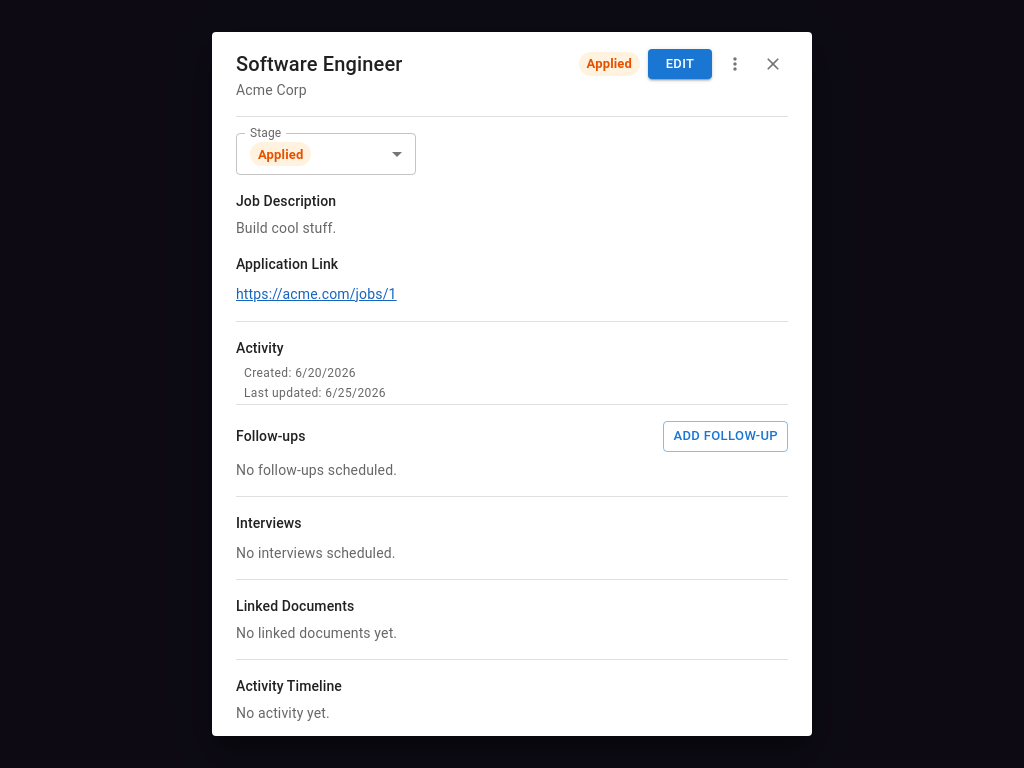
Scenario: JobDetailDialog › shows validation error when follow-up due date is missing
The image size is (1024, 768).
Click the button "Add Follow-up". click: (726, 437)
box: [663,421,788,452]
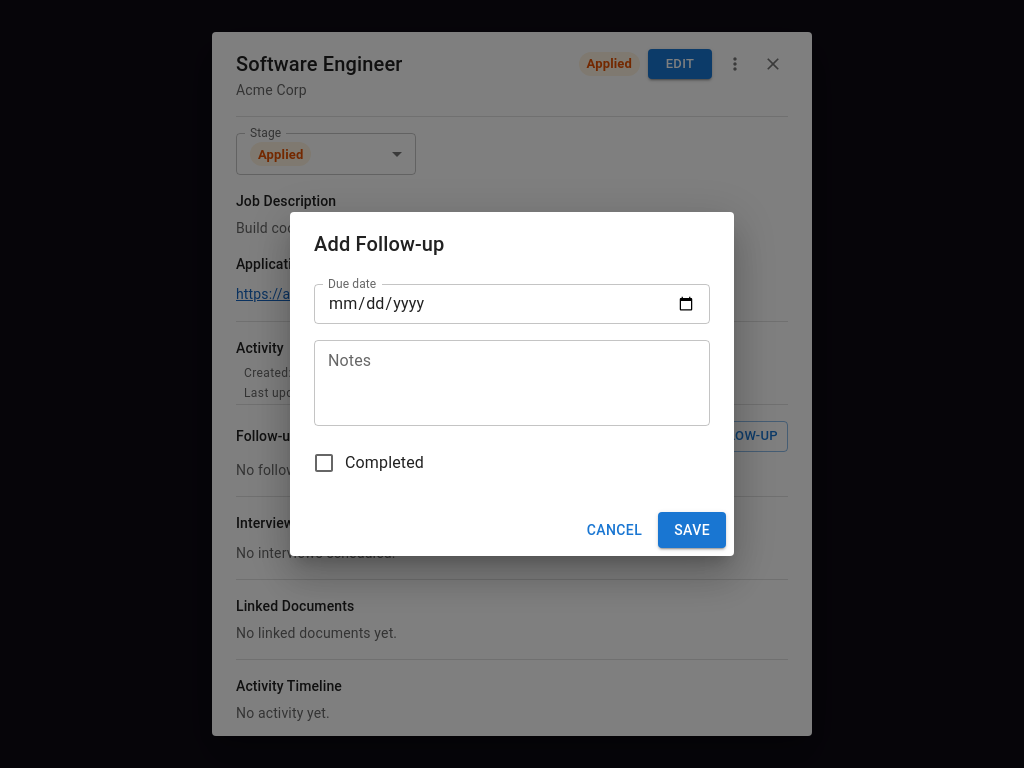
Click the button "Save". click: (692, 530)
box: [658,512,726,548]
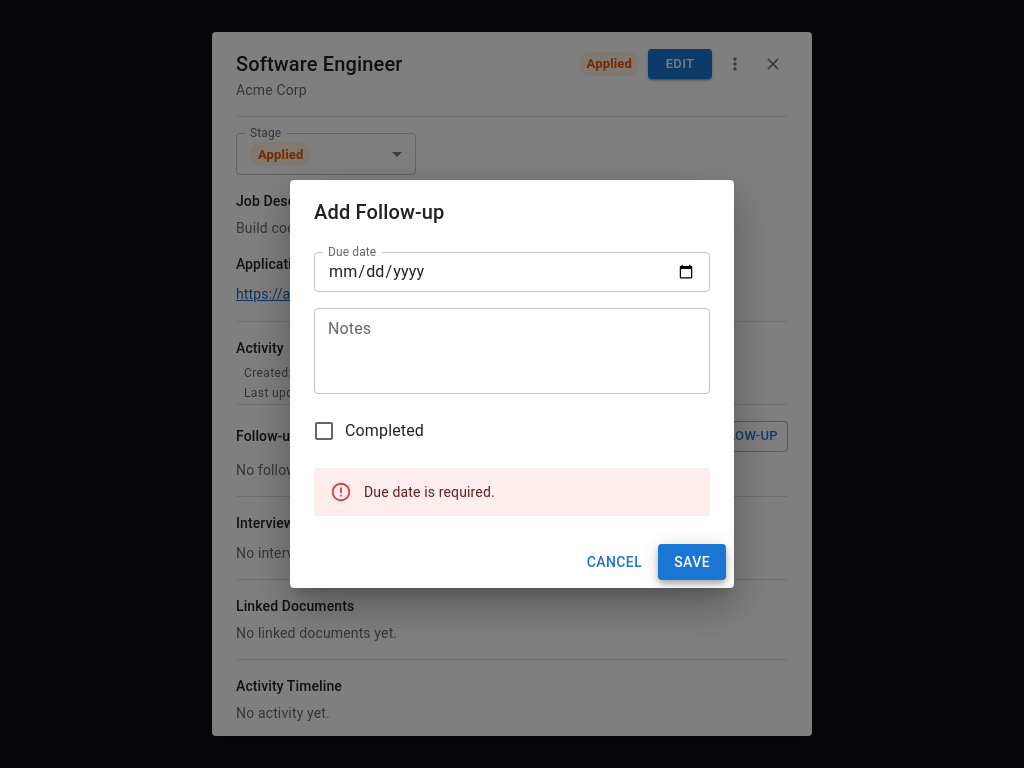
expect the text "Due date is required." is shown: met, box [364,484,495,500]
